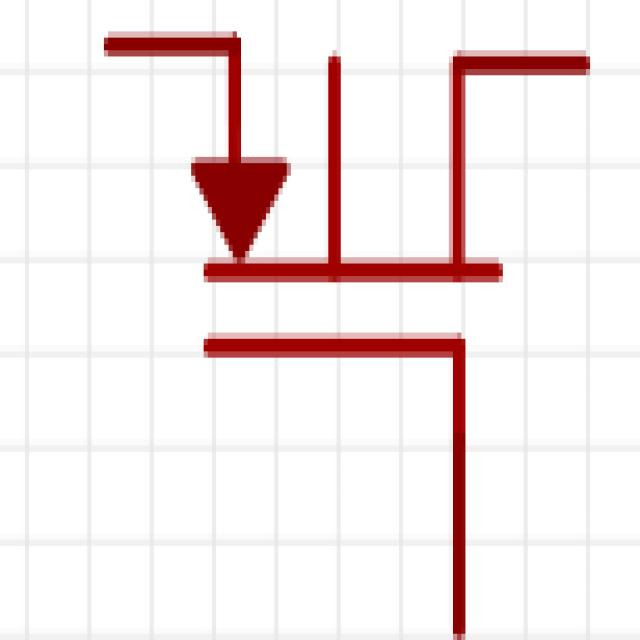pmos: (76, 12, 574, 640)
